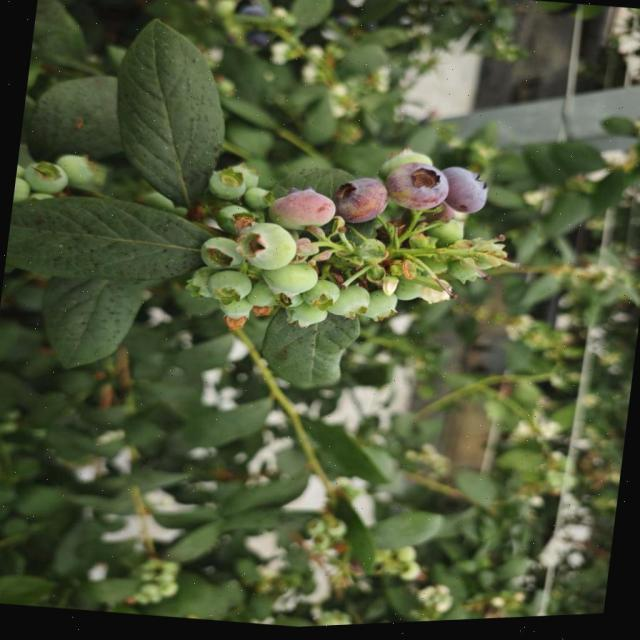Semi-RipeBlueBerry: (384, 160, 450, 220), (265, 184, 336, 236), (332, 175, 390, 231), (437, 167, 491, 223)
UnripeBlueBerry: (235, 219, 298, 278)
